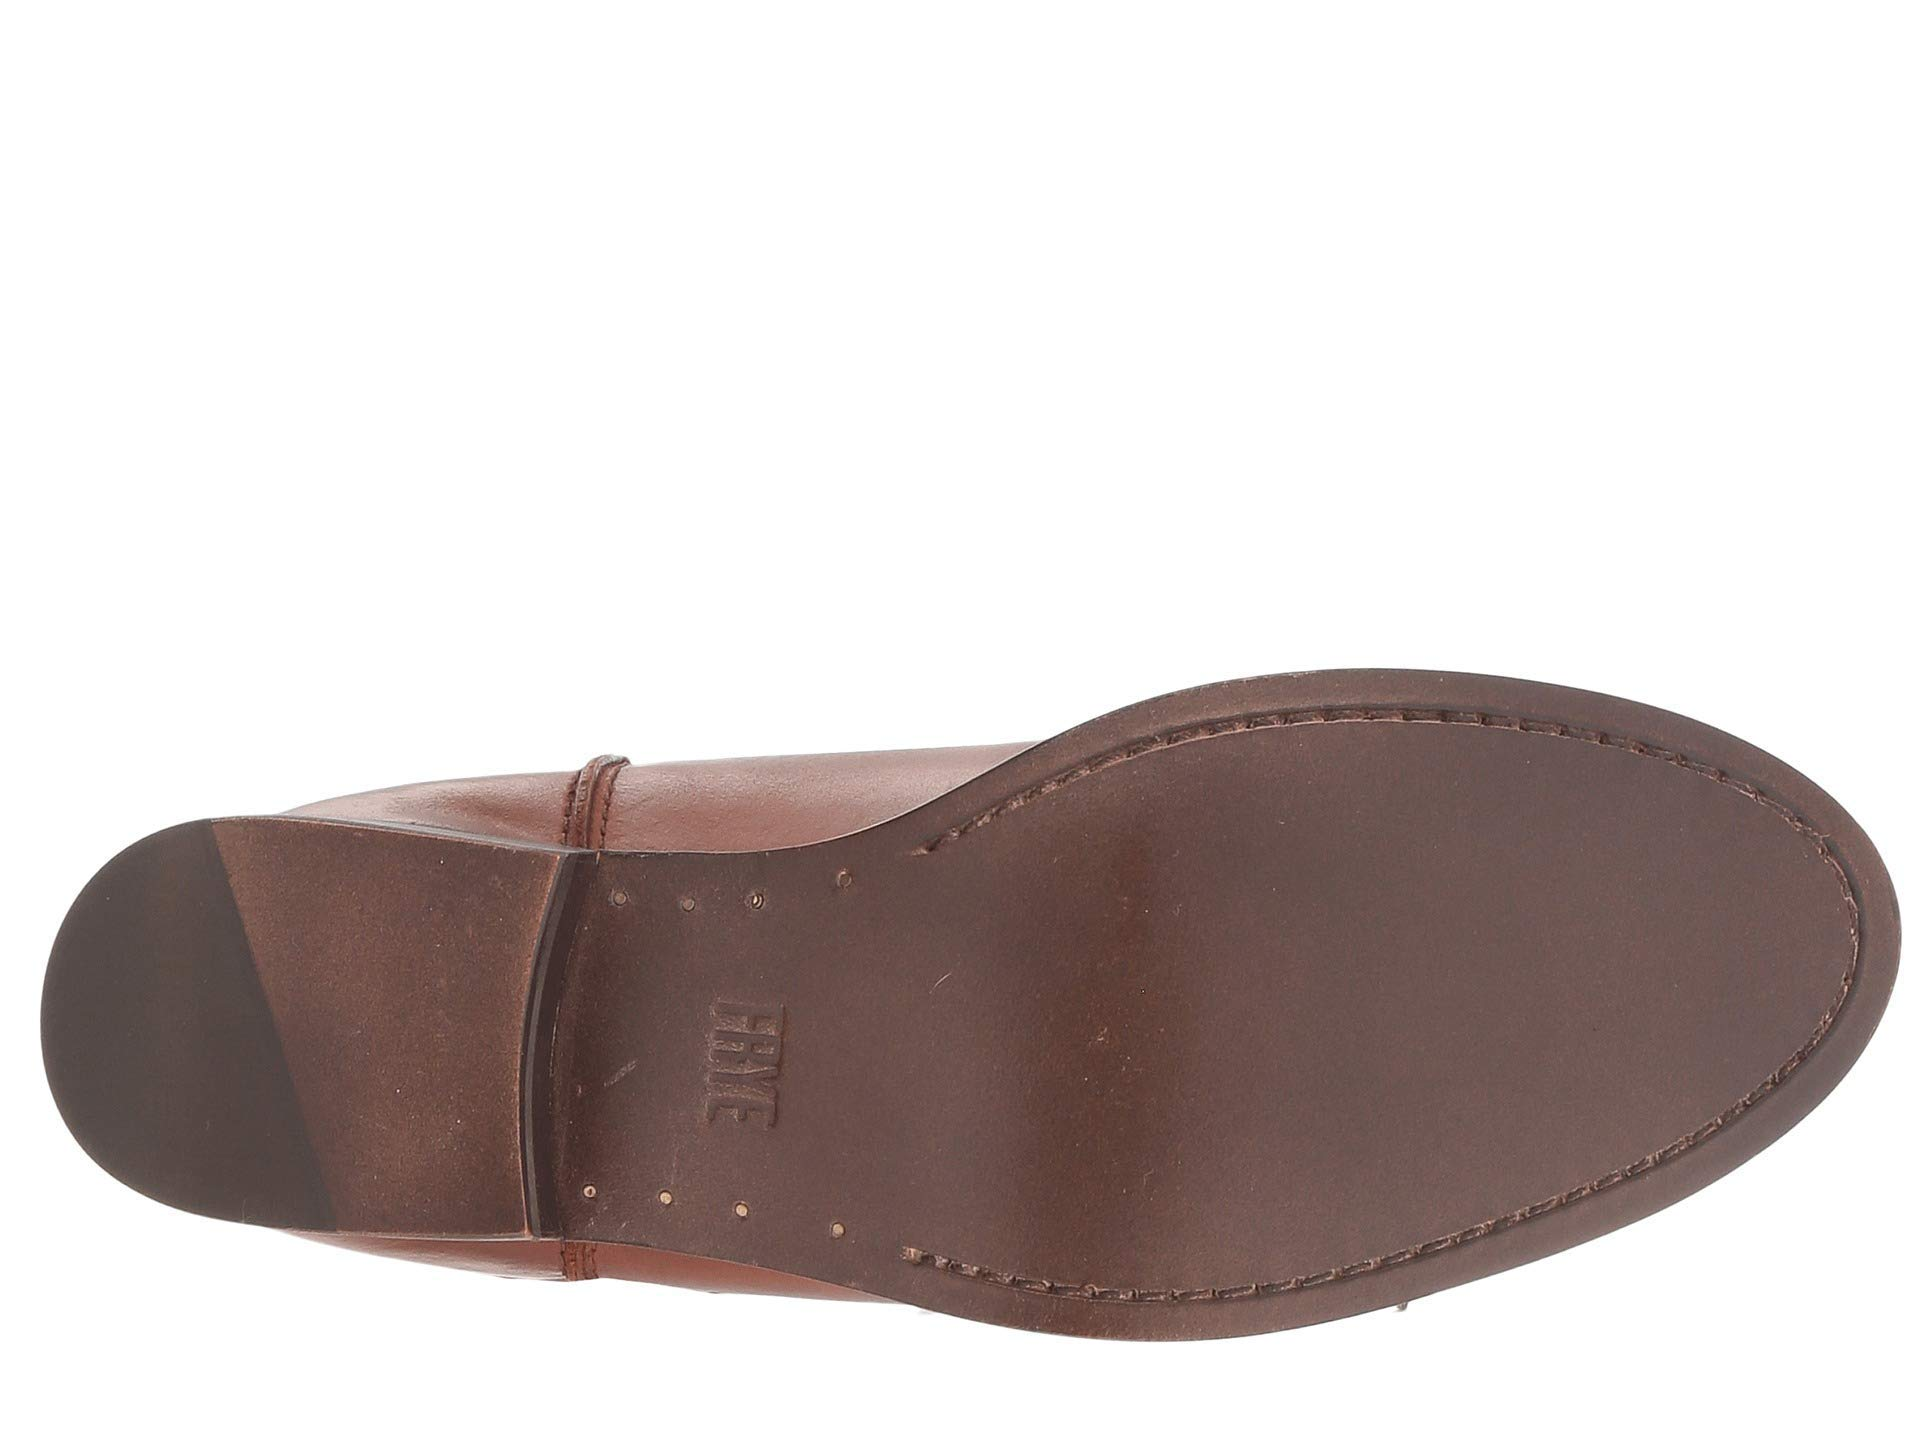line: (1274, 759, 1678, 1187)
text: (671, 950, 884, 1187)
